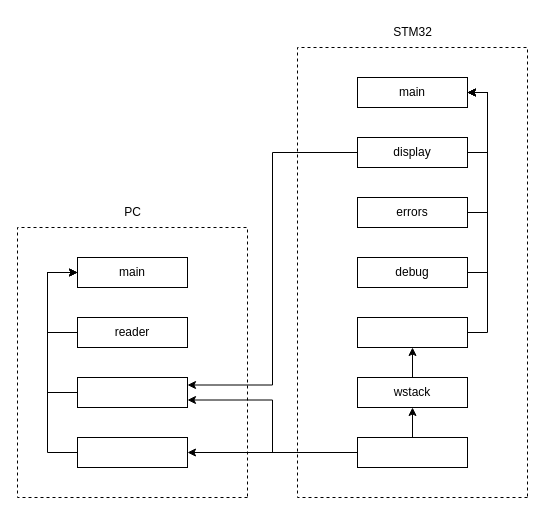
This 546x516 diagram has some shape labels left out. Each missing label, with the centre of its shape:
"converter" belongs at [132,392].
"data_strucrures" belongs at [412,452].
"warnock" belongs at [412,332].
"writer" belongs at [132,452].
